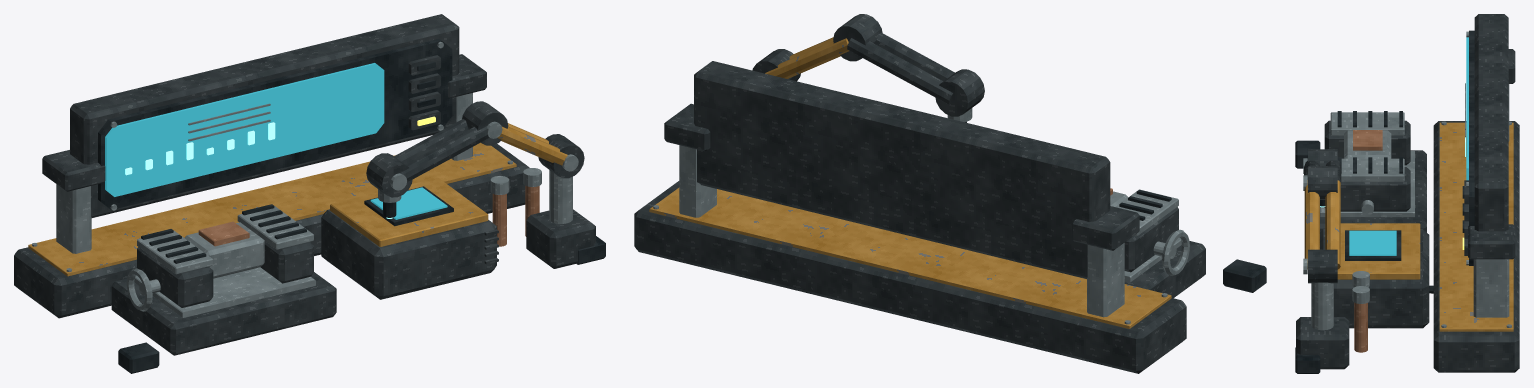
File: engineering_tabletop_module.glb
3 renders of one model, left to right at view 1: azimuth 30°, elevation 25°; view 2: azimuth 150°, elevation 25°; view 3: azimuth 270°, elevation 25°, orthographic. The views are drawn at different scales.
Visible parts, largest first — view 1: engineering_tabletop_module; view 2: engineering_tabletop_module; view 3: engineering_tabletop_module.
Boxes of the visible parts, x1,y1,x2,y2 form: engineering_tabletop_module: [14, 14, 605, 373]; engineering_tabletop_module: [634, 14, 1266, 373]; engineering_tabletop_module: [1295, 14, 1519, 373].
Size of the model in its own units: 1.75 by 0.621 by 0.7575.
8 materials, 5 textured.
